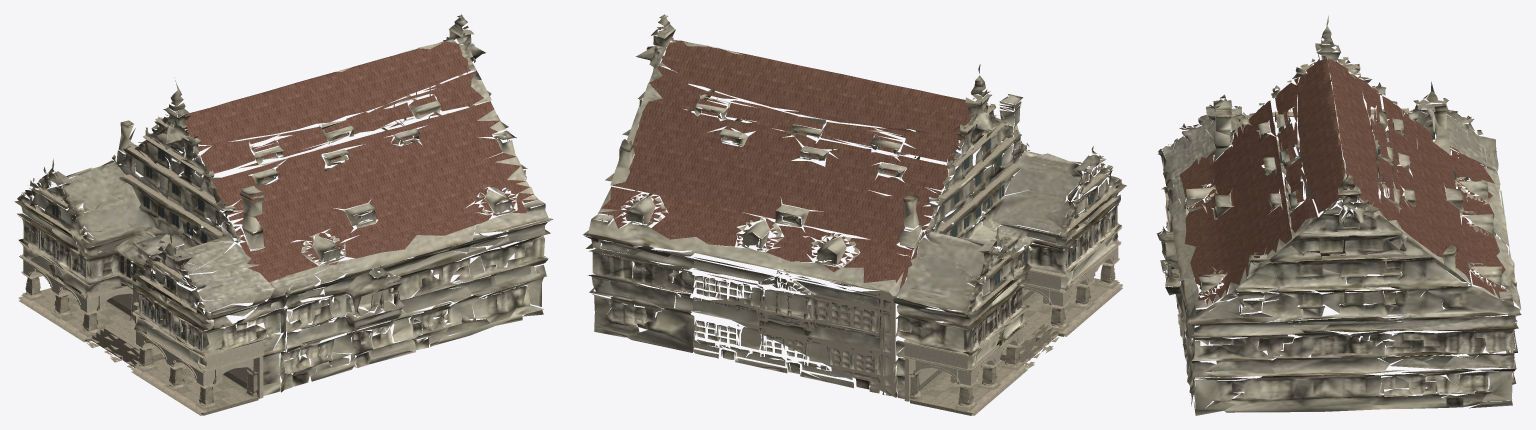
File: rh_fern.glb
The picture shows the model from 3 angles, left to right: view 1: azimuth 30°, elevation 25°; view 2: azimuth 150°, elevation 25°; view 3: azimuth 270°, elevation 25°; orthographic projection. The views are drawn at different scales.
Visible parts, largest first — view 1: RH_Arkaden_Giebel, RH_Lauben_2, RH_Lauben_1, RH_Giebelfenster, RH_Steinstufen, RH_Fenstergang, RH_Fenster_der_Ausluchten, RH_Nordwand_Ruecklage; view 2: RH_Arkaden_Giebel, RH_Nordwand_Fassadenschluss, RH_Lauben_1, RH_Nordwand_Ruecklage, RH_Lauben_2, RH_Giebelfenster, RH_Steinstufen, RH_Fenster_der_Ausluchten, RH_Fenstergang; view 3: RH_Arkaden_Giebel, RH_Lauben_1, RH_Lauben_2, RH_Giebelfenster.
Part boxes in pixels (box(x1,y1,x2,y2)): RH_Arkaden_Giebel: box(14, 14, 553, 395); RH_Lauben_2: box(131, 300, 264, 415); RH_Lauben_1: box(18, 229, 132, 342); RH_Giebelfenster: box(24, 117, 222, 312); RH_Steinstufen: box(87, 320, 164, 368); RH_Fenstergang: box(22, 218, 203, 351); RH_Fenster_der_Ausluchten: box(27, 226, 200, 349); RH_Nordwand_Ruecklage: box(93, 177, 275, 260); RH_Arkaden_Giebel: box(583, 14, 1126, 398); RH_Nordwand_Fassadenschluss: box(692, 248, 891, 395); RH_Lauben_1: box(903, 296, 1027, 415); RH_Nordwand_Ruecklage: box(700, 290, 895, 397); RH_Lauben_2: box(1013, 214, 1122, 336); RH_Giebelfenster: box(937, 106, 1117, 310); RH_Steinstufen: box(1000, 319, 1058, 368); RH_Fenster_der_Ausluchten: box(974, 214, 1114, 344); RH_Fenstergang: box(970, 204, 1118, 350); RH_Arkaden_Giebel: box(1156, 15, 1521, 415); RH_Lauben_1: box(1371, 180, 1488, 271); RH_Lauben_2: box(1165, 185, 1294, 276); RH_Giebelfenster: box(1226, 64, 1454, 163).
Bounding box in the file's own units: 32.19 × 20.7 × 26.27.
16 materials, 6 textured.
